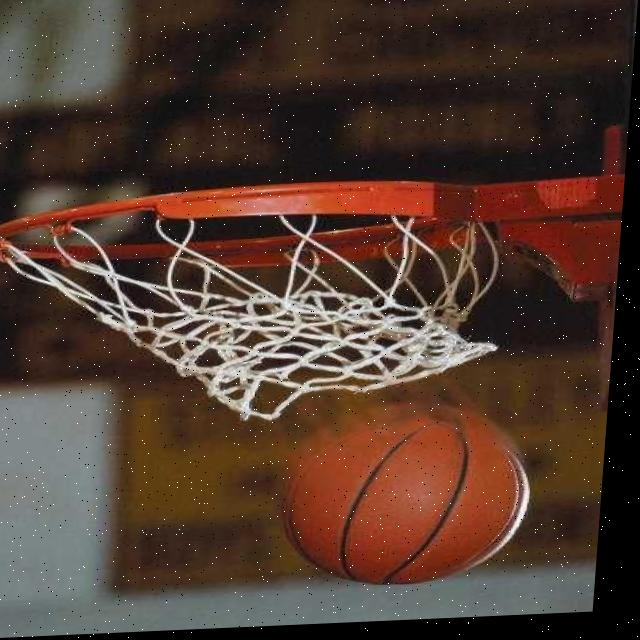basketball: (271, 398, 543, 593)
hoop: (0, 162, 519, 437)
